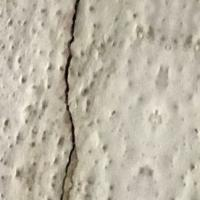crack: (52, 0, 96, 199)
